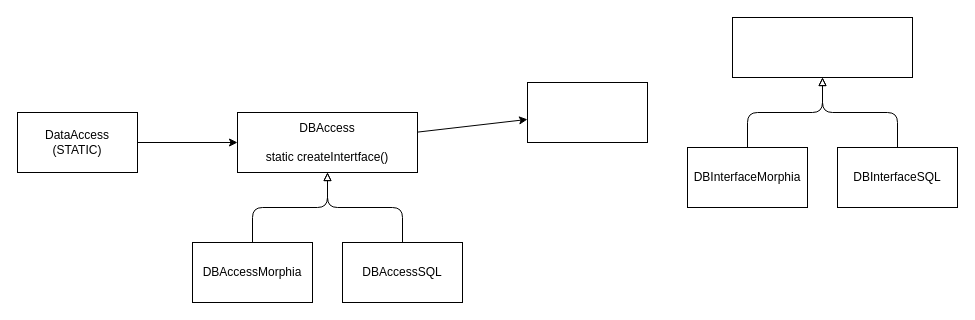
The diagram is 975 pixels wide and 320 high, and some of its shapes have lost their labels. Here are the shapes that lost their labels. From the top down, the box of each, then its label:
(732, 16, 912, 78): DBInterface
(526, 82, 648, 142): DBInterfaceFactory
